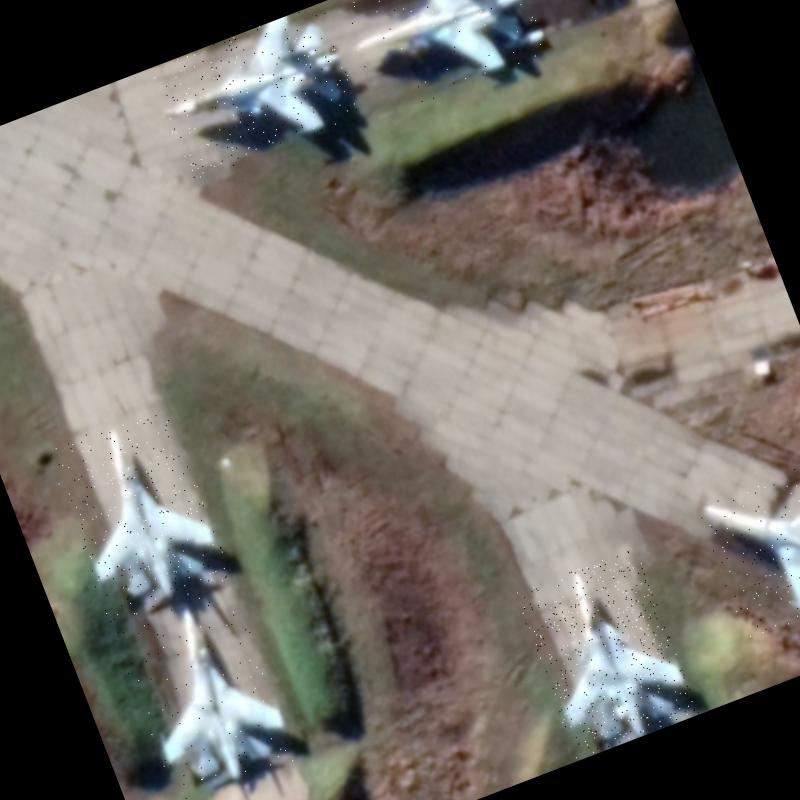A1: (43, 403, 233, 624), (110, 583, 300, 800), (332, 0, 548, 119), (694, 448, 800, 644)
A19: (513, 546, 699, 760), (146, 2, 365, 182)
